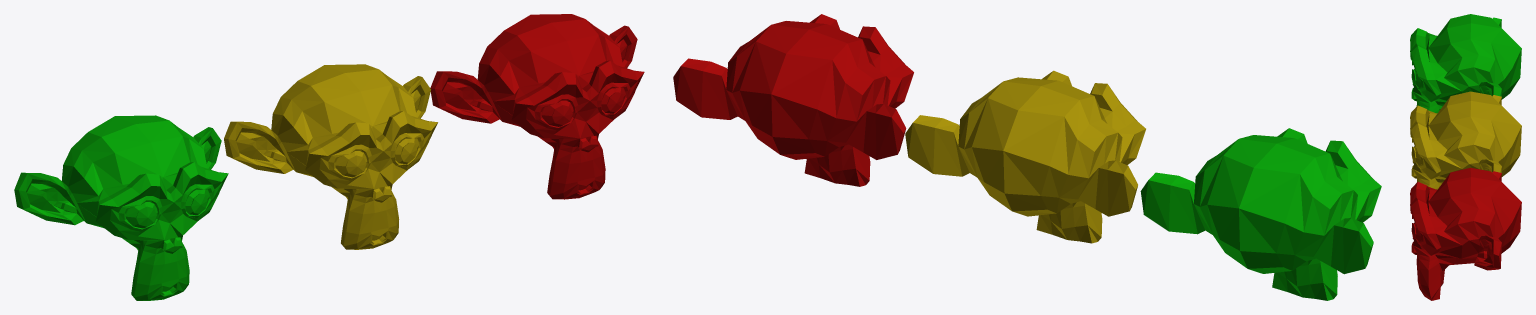
The picture shows the model from 3 angles, left to right: view 1: azimuth 30°, elevation 25°; view 2: azimuth 150°, elevation 25°; view 3: azimuth 270°, elevation 25°; orthographic projection. The views are drawn at different scales.
Parts seen in each view (by area): view 1: Center, Right, Left; view 2: Center, Left, Right; view 3: Right, Left, Center.
Part boxes in pixels (x1,y1,x2,y2): Center: [224, 64, 437, 249]; Right: [430, 14, 644, 199]; Left: [14, 115, 228, 300]; Center: [905, 70, 1145, 243]; Left: [1140, 128, 1381, 300]; Right: [673, 14, 913, 186]; Right: [1410, 167, 1521, 300]; Left: [1410, 14, 1521, 113]; Center: [1410, 91, 1521, 189].
Bounding box in the file's own units: 8.28 × 1.97 × 1.7.
